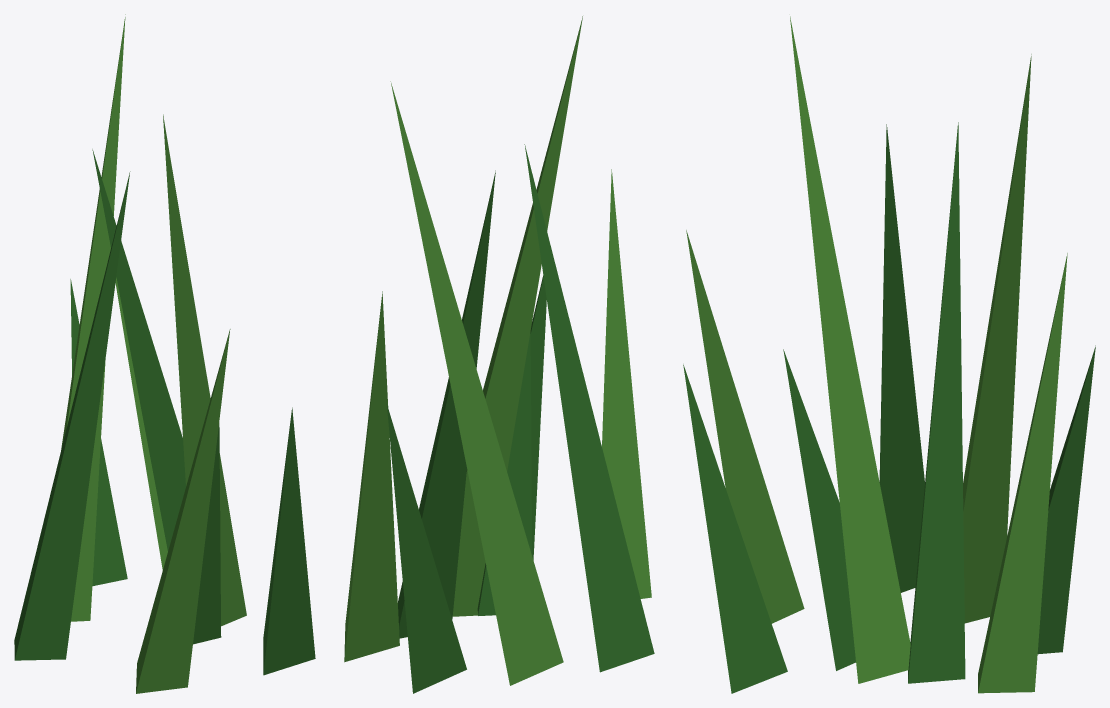
Rendered from grass.glb.
The picture shows the model from 3 angles, left to right: view 1: azimuth 30°, elevation 25°; view 2: azimuth 150°, elevation 25°; view 3: azimuth 270°, elevation 25°; orthographic projection. The views are drawn at different scales.
Parts seen in each view (by area): view 1: grass; view 2: grass; view 3: grass.
Part boxes in pixels (<box>): grass: <box>14,14,315,693</box>; grass: <box>344,16,654,693</box>; grass: <box>683,16,1095,693</box>.
Size of the model in its own units: 0.1641 by 0.3563 by 0.2157.
